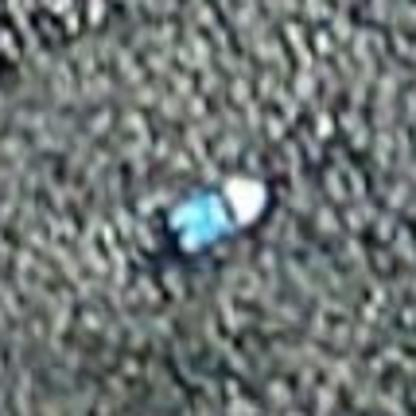ship: (162, 171, 278, 266)
